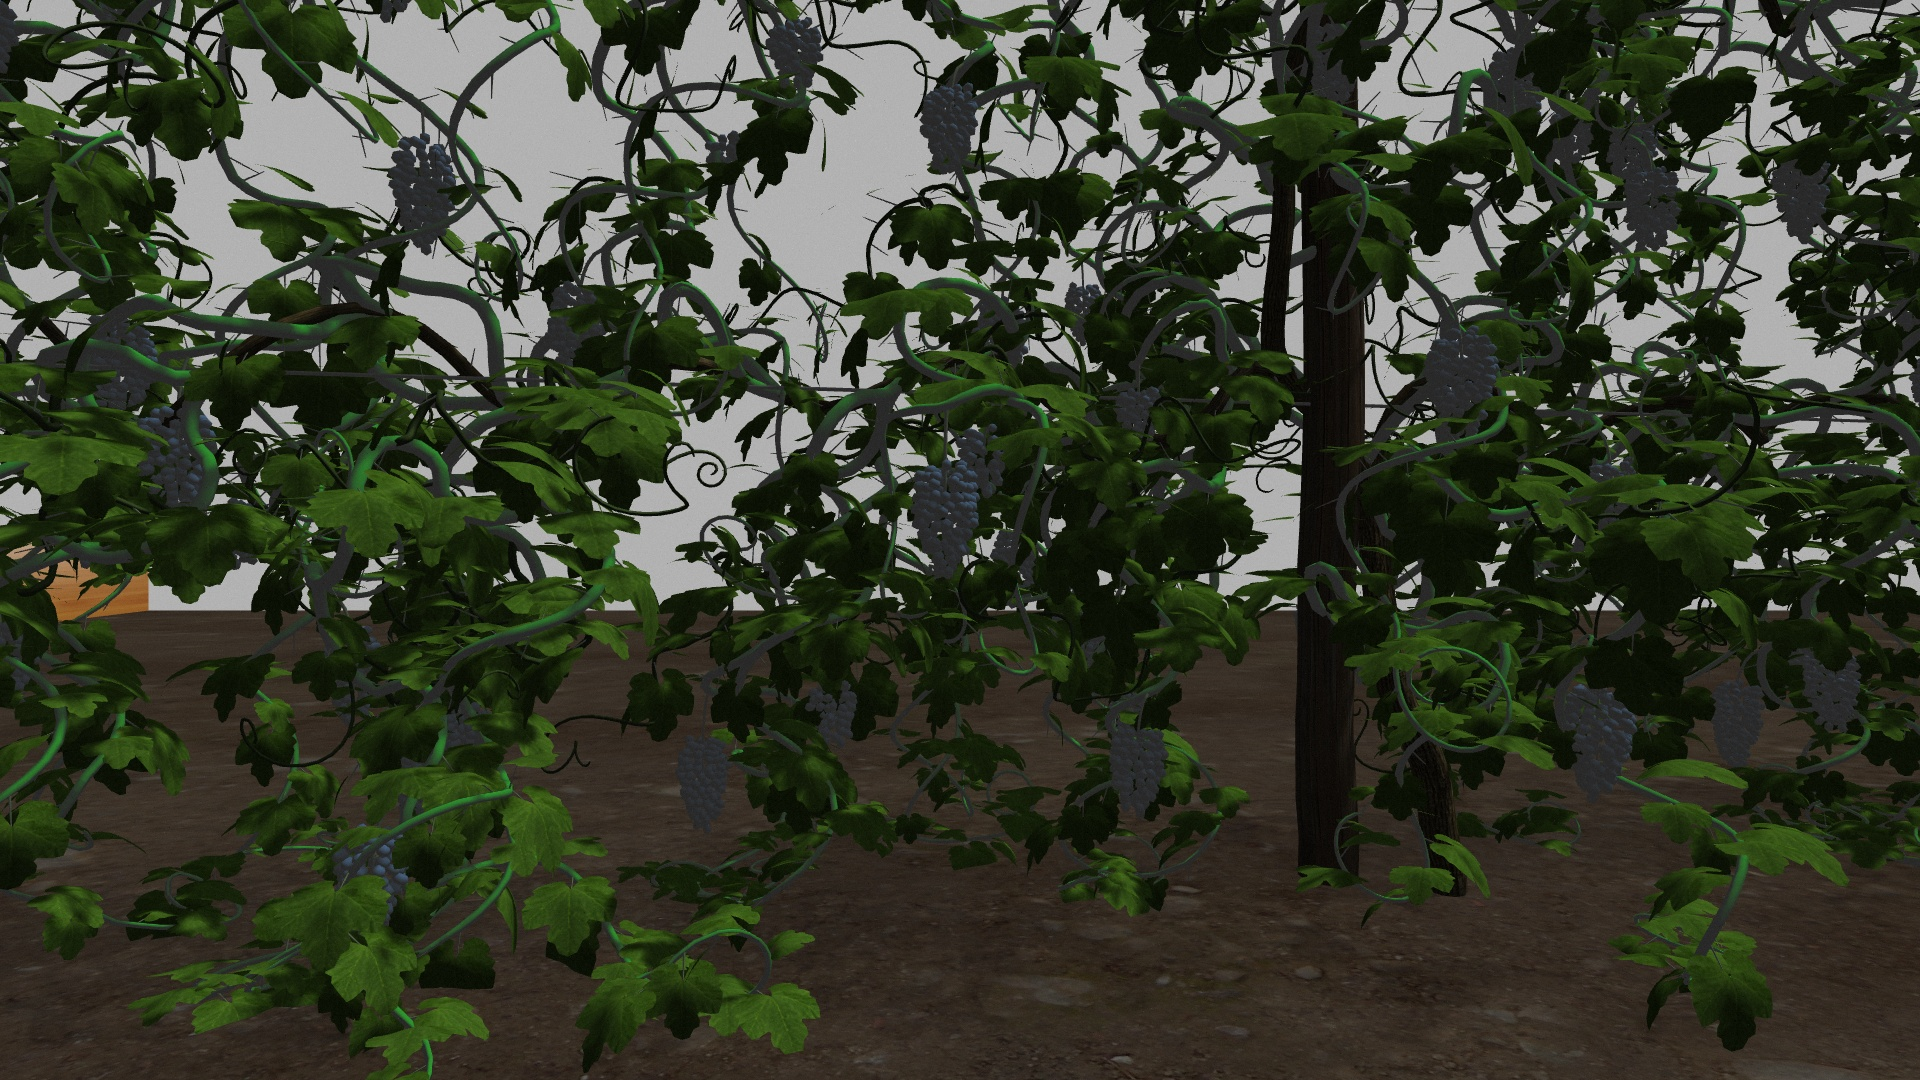grape: (385, 131, 462, 255), (136, 405, 225, 510), (909, 463, 986, 580), (1568, 684, 1640, 803), (1420, 331, 1501, 429), (336, 829, 407, 928), (1105, 716, 1171, 819), (1772, 146, 1840, 247), (1800, 644, 1865, 744), (916, 78, 981, 175), (676, 735, 735, 836), (800, 674, 858, 760), (1625, 169, 1681, 255), (1713, 682, 1766, 769), (765, 18, 825, 86), (960, 425, 1007, 496), (1606, 121, 1658, 179), (1112, 380, 1162, 431), (1062, 282, 1100, 347)
